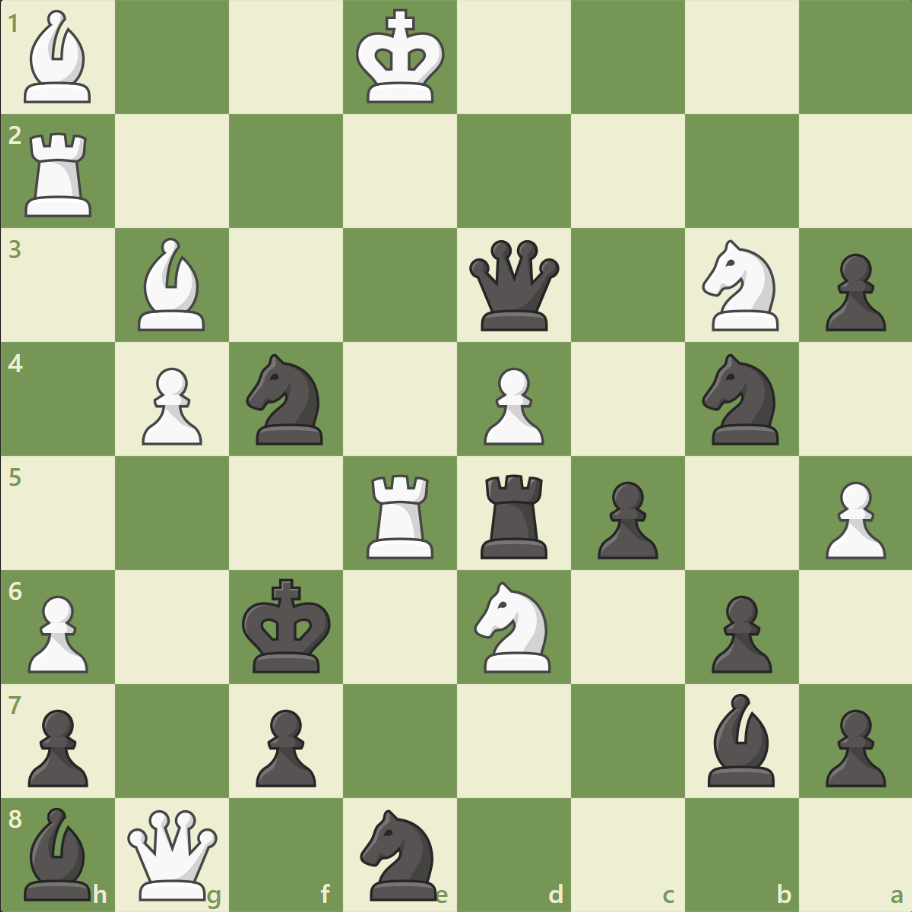B: (131, 233, 215, 336), (17, 6, 101, 109)
K: (351, 4, 451, 112)
N: (692, 234, 789, 337), (465, 575, 562, 677)
P: (20, 586, 95, 677), (474, 359, 549, 450), (133, 359, 208, 450), (815, 473, 889, 564)
Q: (124, 804, 223, 903)
R: (19, 125, 102, 222), (360, 466, 442, 563)
b: (17, 801, 101, 904), (698, 687, 782, 790)
k: (238, 571, 338, 679)
n: (351, 802, 449, 904), (692, 348, 789, 450), (238, 348, 335, 450)
p: (247, 700, 322, 791), (20, 700, 95, 791), (701, 586, 776, 677), (815, 700, 889, 791), (588, 473, 662, 564), (815, 246, 889, 337)
q: (464, 236, 563, 335)
r: (473, 466, 556, 563)
